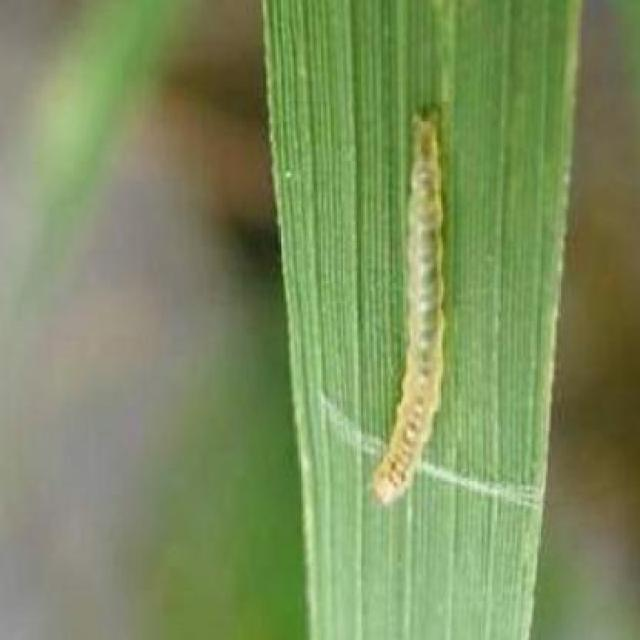leaf-folder: (356, 101, 461, 508)
